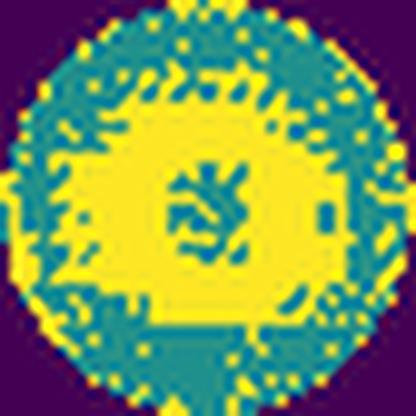Donut: (60, 59, 350, 323)
